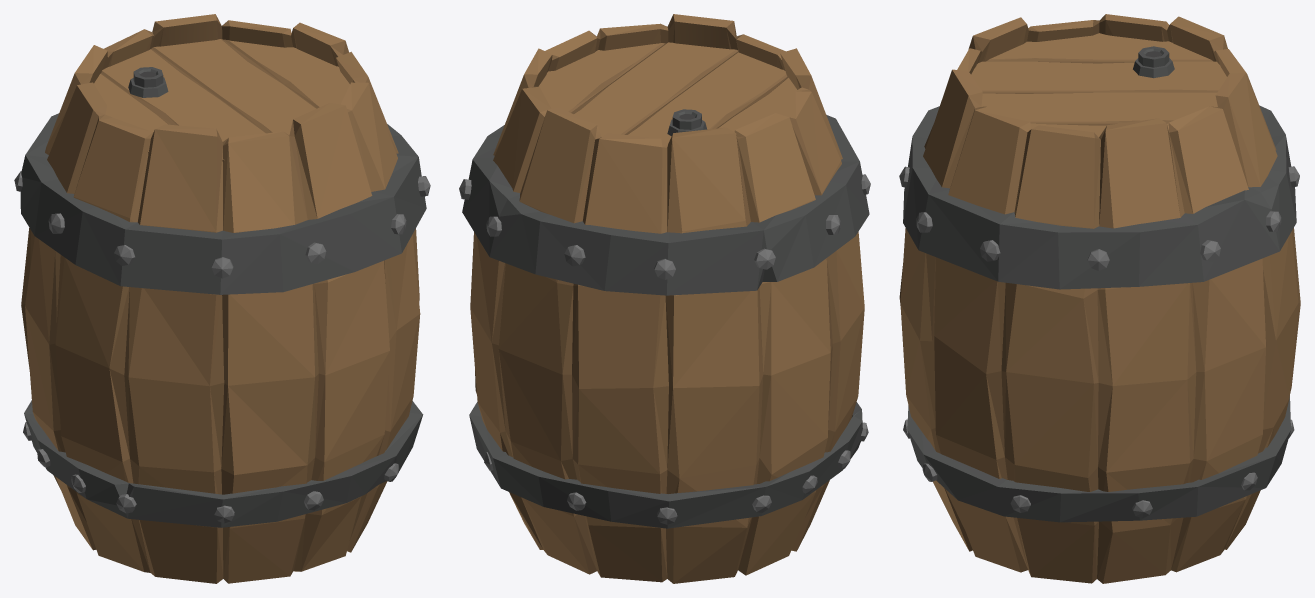
The model's file is Barrel_001.fbx.
The picture shows the model from 3 angles, left to right: view 1: azimuth 30°, elevation 25°; view 2: azimuth 150°, elevation 25°; view 3: azimuth 270°, elevation 25°; orthographic projection.
Parts seen in each view (by area): view 1: Barrel_001; view 2: Barrel_001; view 3: Barrel_001.
Part boxes in pixels (<box>): Barrel_001: <box>14,14,430,583</box>; Barrel_001: <box>459,14,870,583</box>; Barrel_001: <box>899,14,1300,583</box>.
Size of the model in its own units: 0.7748 by 0.9706 by 0.7732.
